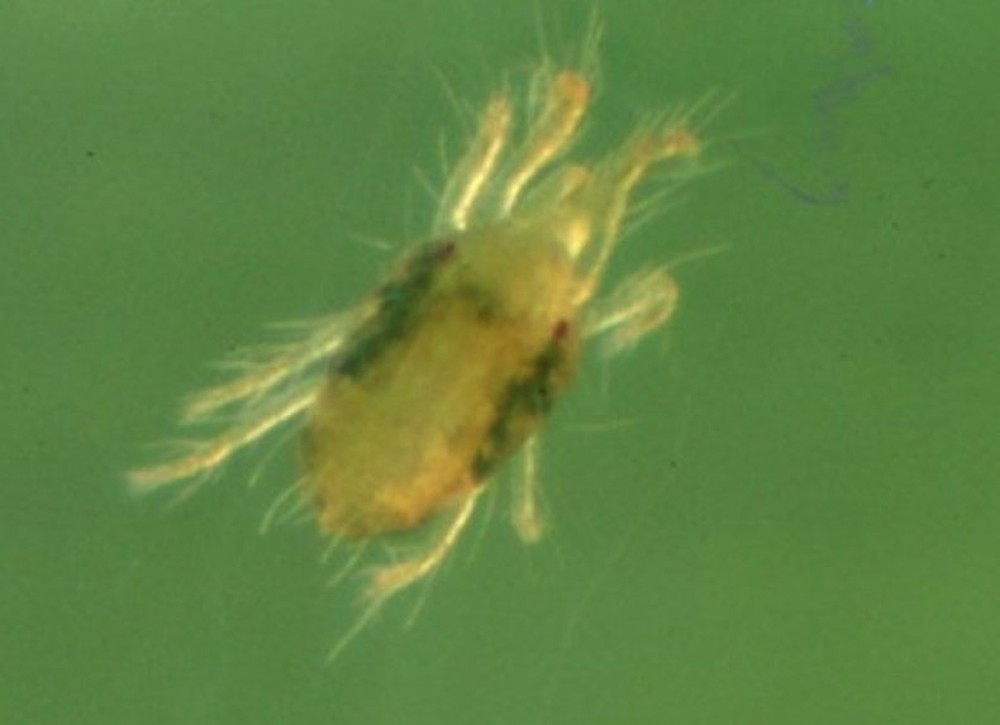Aracnido Rojo: (129, 48, 722, 659)
